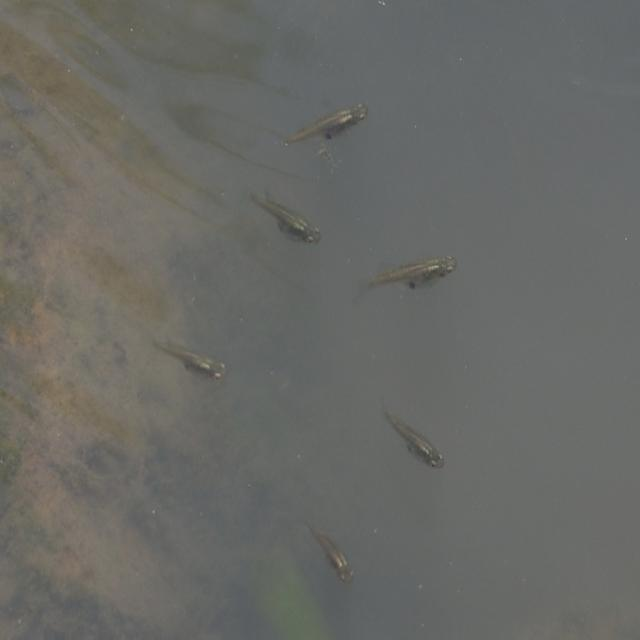Sivrisinek Baligi: (384, 406, 448, 482), (250, 193, 322, 249), (304, 518, 360, 585), (288, 102, 367, 148), (368, 254, 458, 292), (159, 341, 231, 387)
